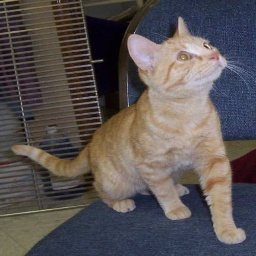cat: (28, 10, 250, 244)
